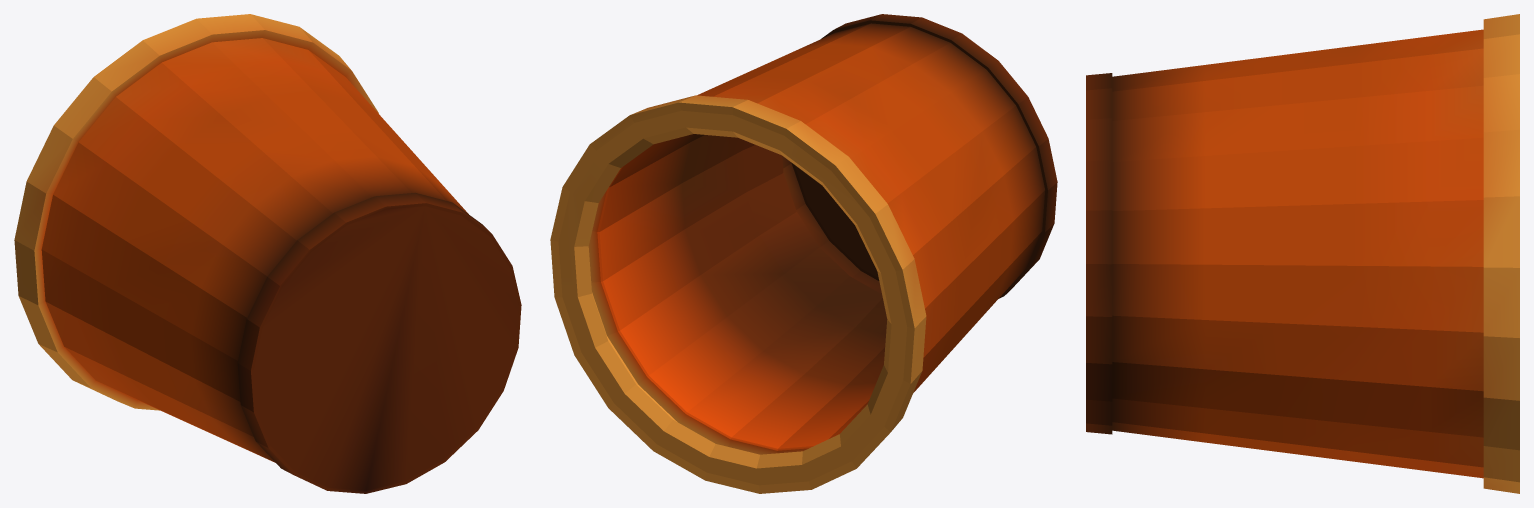
The model's file is dustbin9.fbx.
The picture shows the model from 3 angles, left to right: view 1: azimuth 30°, elevation 25°; view 2: azimuth 150°, elevation 25°; view 3: azimuth 270°, elevation 25°; orthographic projection. The views are drawn at different scales.
Parts seen in each view (by area): view 1: Cylinder.001; view 2: Cylinder.001; view 3: Cylinder.001.
Boxes of the visible parts, box(x1,y1,x2,y2) form: Cylinder.001: box(14, 14, 521, 493); Cylinder.001: box(550, 14, 1057, 493); Cylinder.001: box(1086, 14, 1519, 493).
Size of the model in its own units: 50.76 by 50.62 by 45.78.
